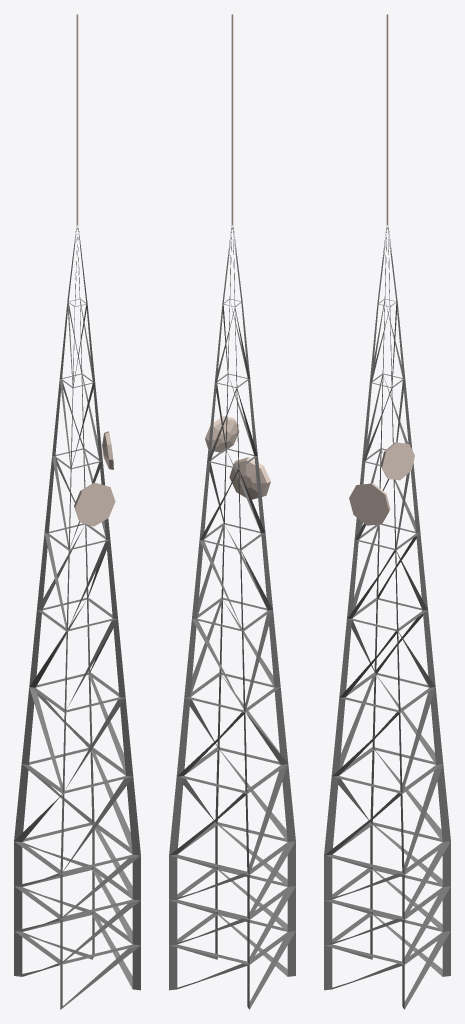
Rendered from Tower.fbx.
The picture shows the model from 3 angles, left to right: view 1: azimuth 30°, elevation 25°; view 2: azimuth 150°, elevation 25°; view 3: azimuth 330°, elevation 25°; orthographic projection.
Parts seen in each view (by area): view 1: Cube.004; view 2: Cube.004; view 3: Cube.004.
Part boxes in pixels (<box>): Cube.004: <box>14,14,140,1009</box>; Cube.004: <box>169,14,295,1009</box>; Cube.004: <box>324,14,450,1009</box>.
Size of the model in its own units: 200 by 2300 by 200.
